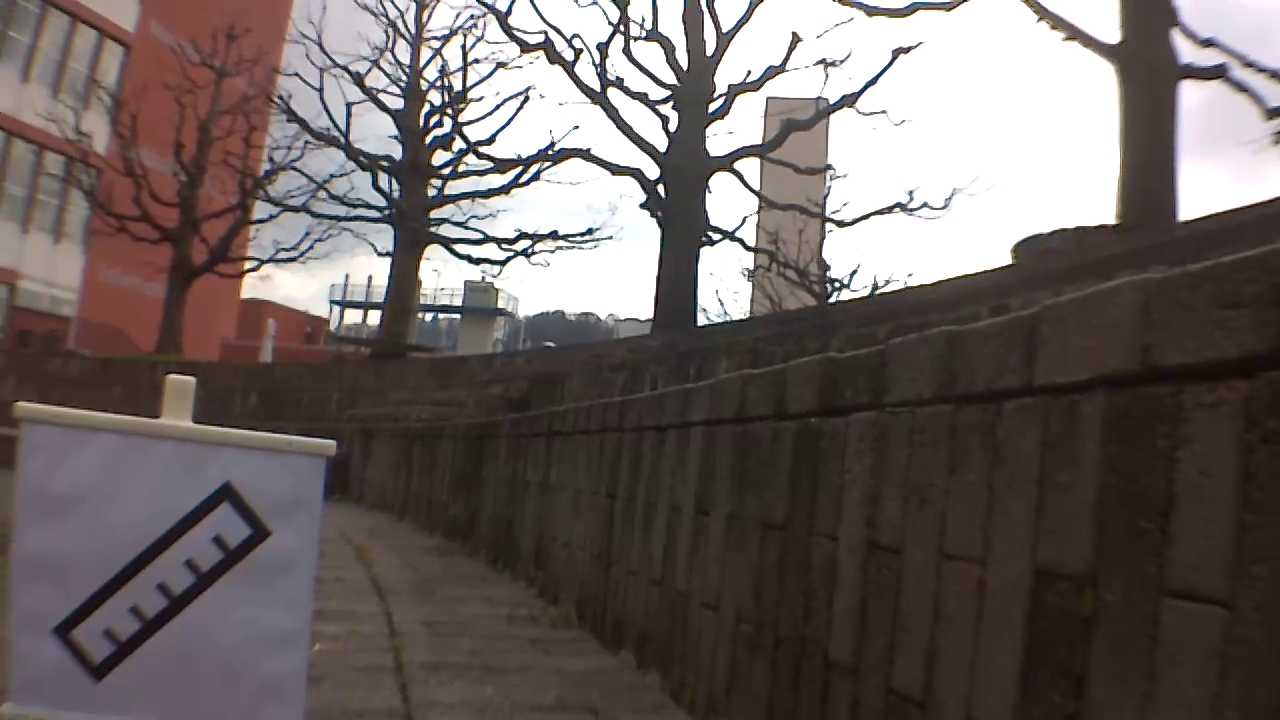ruler: (46, 481, 282, 688)
